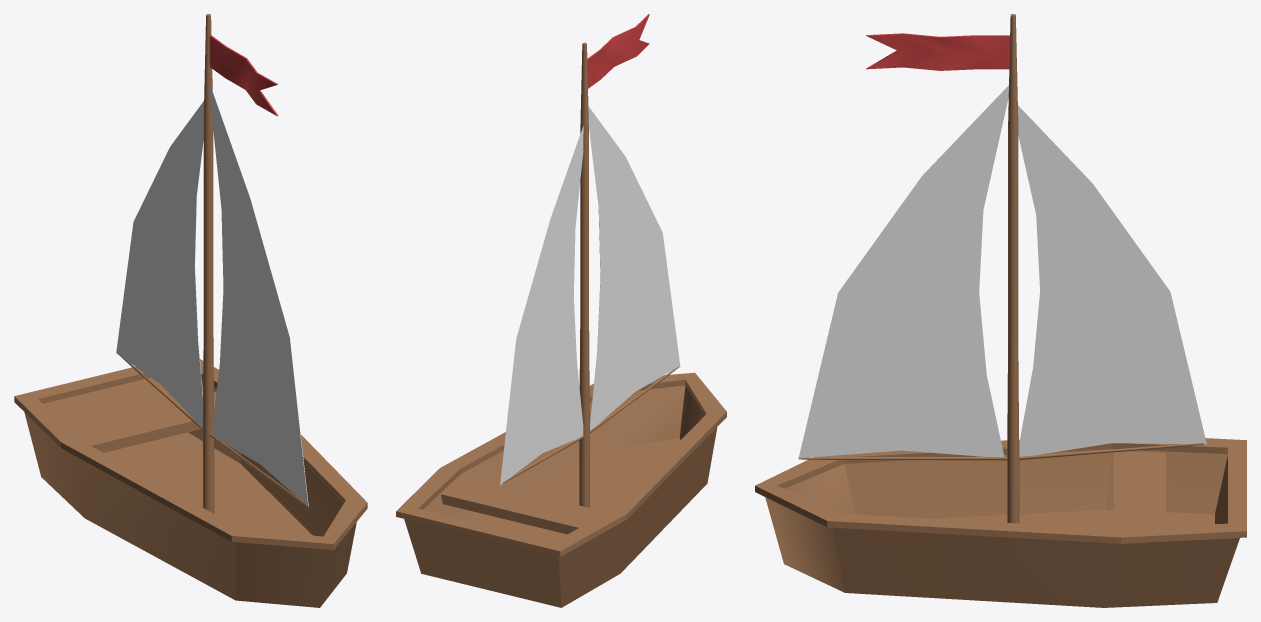
The model's file is sailboat.glb.
3 views of the same model, side by side, from view 1: azimuth 30°, elevation 25°; view 2: azimuth 150°, elevation 25°; view 3: azimuth 270°, elevation 25° (orthographic). The views are drawn at different scales.
Parts seen in each view (by area): view 1: Pyramid002; view 2: Pyramid002; view 3: Pyramid002.
Boxes of the visible parts, box(x1,y1,x2,y2) form: Pyramid002: box(14, 14, 367, 607); Pyramid002: box(396, 14, 726, 607); Pyramid002: box(755, 14, 1246, 607).
Bounding box in the file's own units: 2.44 × 6 × 4.89.
